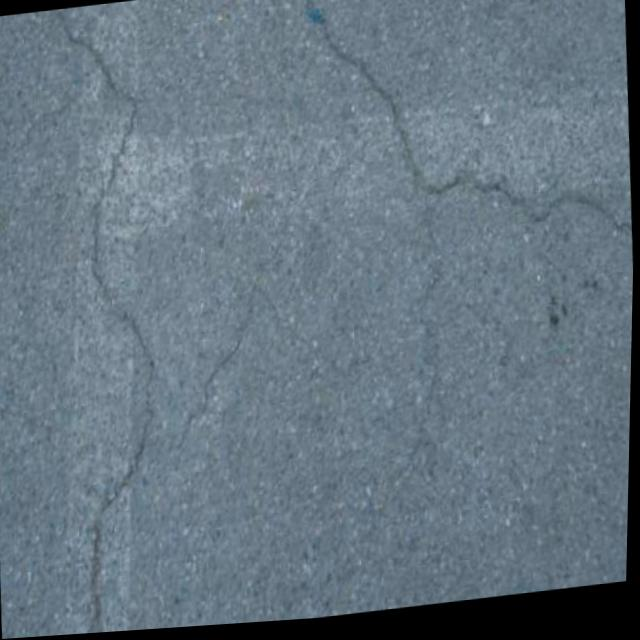Crack: (26, 0, 186, 638), (287, 0, 636, 263), (392, 195, 468, 519), (173, 273, 260, 455)
